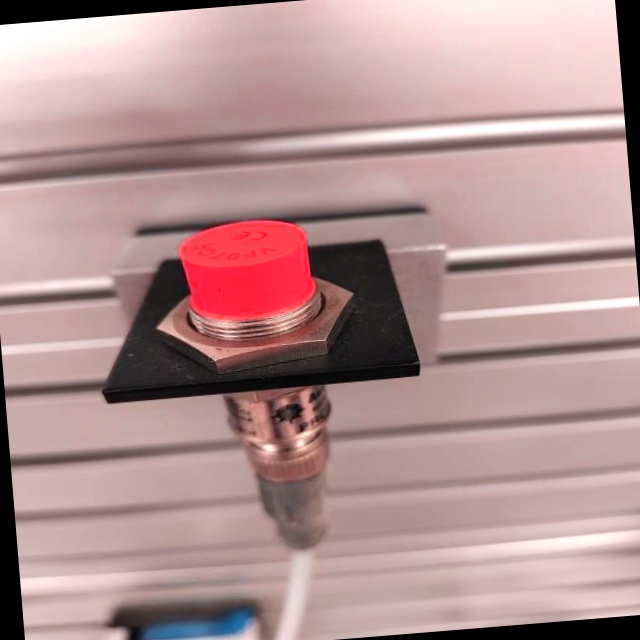inductive sensor: (79, 196, 484, 570)
